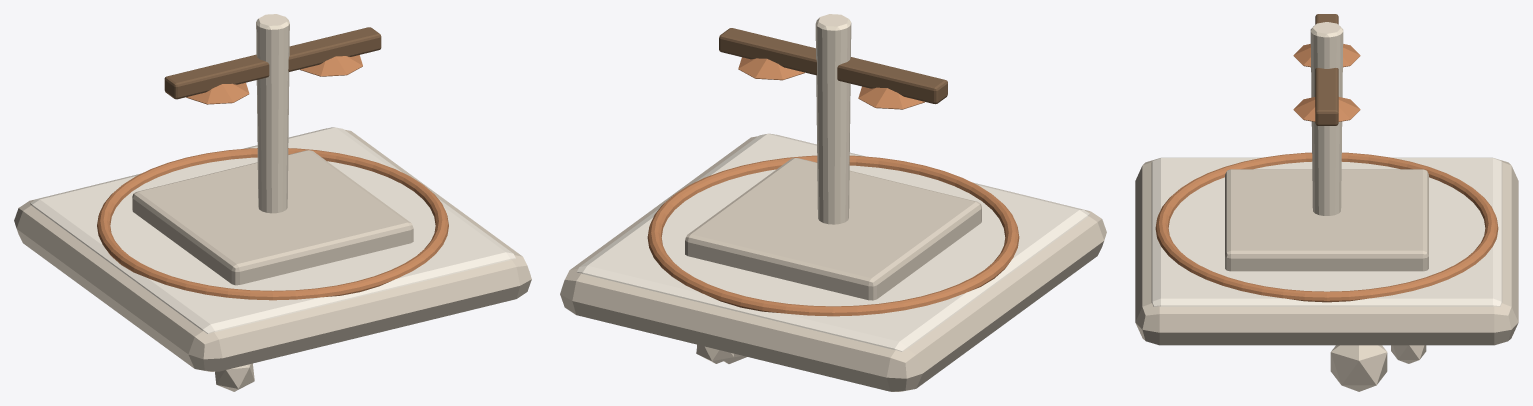
Rendered from island_eval.glb.
The picture shows the model from 3 angles, left to right: view 1: azimuth 30°, elevation 25°; view 2: azimuth 150°, elevation 25°; view 3: azimuth 270°, elevation 25°; orthographic projection. The views are drawn at different scales.
Parts seen in each view (by area): view 1: island_eval; view 2: island_eval; view 3: island_eval.
Boxes of the visible parts, bbox=[...] form: island_eval: bbox=[14, 14, 531, 391]; island_eval: bbox=[560, 14, 1106, 391]; island_eval: bbox=[1135, 14, 1518, 391].
Size of the model in its own units: 2.04 by 1.94 by 2.04.
